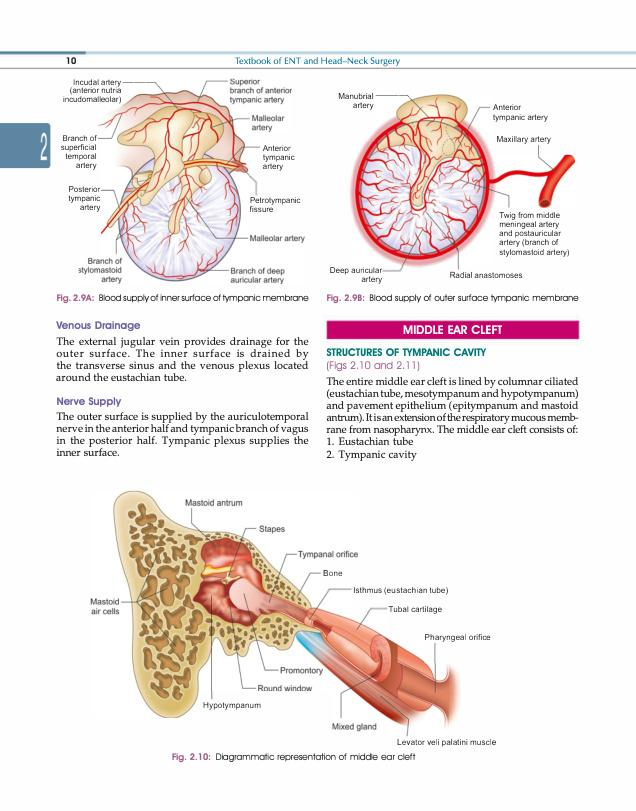caption: (55, 292, 311, 305), (170, 751, 417, 764), (325, 292, 580, 304)
header: (233, 56, 401, 68)
image: (81, 479, 513, 749), (56, 72, 309, 289), (325, 81, 579, 287)
list: (325, 436, 417, 462)
section-heading: (402, 324, 504, 336)
sub-section-heading: (325, 347, 488, 357), (55, 319, 141, 332), (55, 395, 123, 408)
text: (324, 375, 581, 436), (55, 410, 310, 459), (55, 335, 310, 383)
